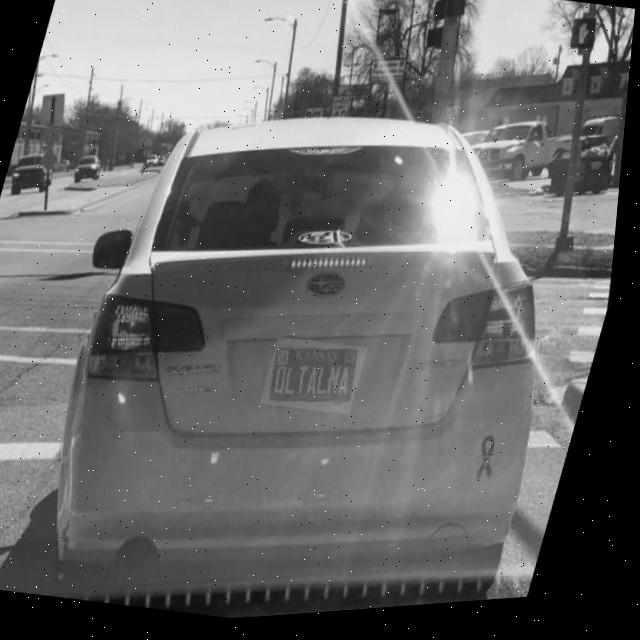LicensePlate: (275, 352, 369, 412)
